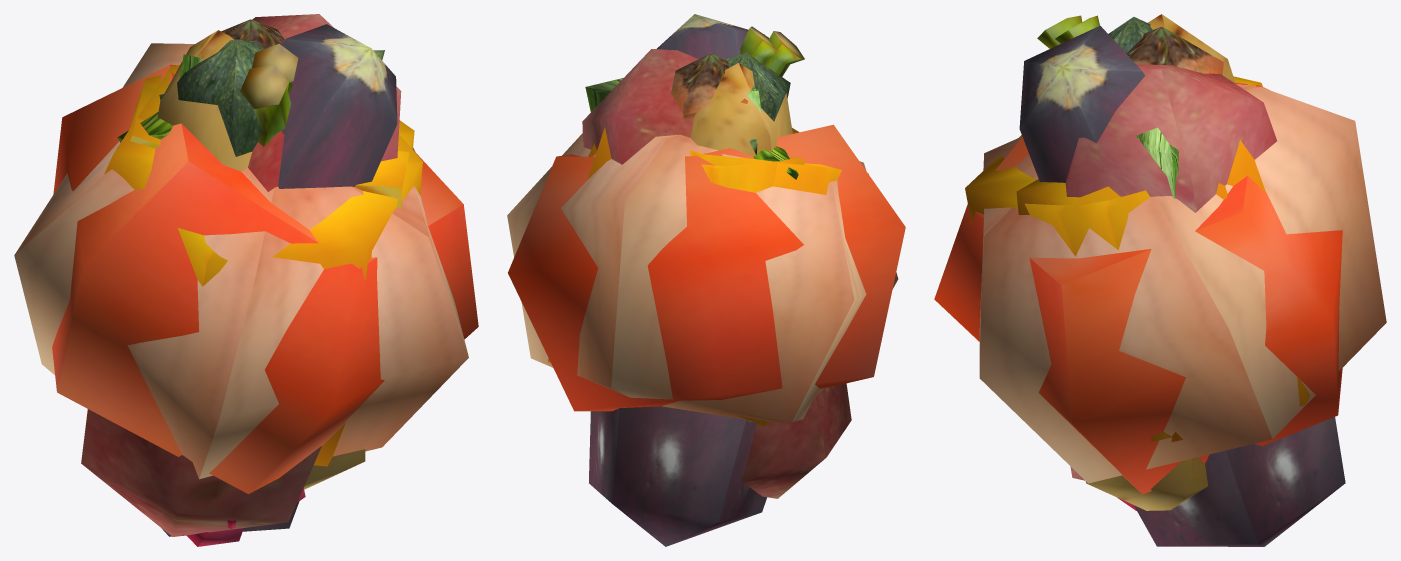
The model's file is Veggies_glb.glb.
3 renders of one model, left to right at view 1: azimuth 30°, elevation 25°; view 2: azimuth 150°, elevation 25°; view 3: azimuth 270°, elevation 25°, orthographic. The views are drawn at different scales.
Parts seen in each view (by area): view 1: Tomato, Onion_Yellow, Potato_Red, Eggplant, Bell_Pepper, Cucumber, Potato_Red.001, Bell_Pepper_Half, Carrot, Beets, Celery; view 2: Tomato, Onion_Yellow, Eggplant, Potato_Red, Potato_Red.001, Bell_Pepper, Bell_Pepper_Half, Carrot, Cucumber, Lettuce; view 3: Onion_Yellow, Tomato, Eggplant, Potato_Red, Bell_Pepper, Bell_Pepper_Half, Potato_Red.001, Carrot, Lettuce, Cucumber.
Part boxes in pixels (x1,y1,x2,y2): Tomato: (52, 64, 478, 493); Onion_Yellow: (14, 43, 468, 479); Potato_Red: (81, 14, 401, 536); Eggplant: (161, 24, 397, 536); Bell_Pepper: (104, 64, 422, 466); Cucumber: (177, 39, 264, 156); Potato_Red.001: (157, 30, 365, 489); Bell_Pepper_Half: (129, 44, 414, 209); Carrot: (221, 19, 284, 48); Beets: (159, 94, 305, 546); Celery: (117, 112, 172, 142); Tomato: (508, 124, 905, 411); Onion_Yellow: (507, 133, 898, 421); Eggplant: (589, 14, 766, 546); Potato_Red: (582, 49, 851, 498); Potato_Red.001: (690, 63, 792, 156); Bell_Pepper: (548, 31, 868, 426); Bell_Pepper_Half: (588, 26, 804, 192); Carrot: (671, 53, 747, 119); Cucumber: (725, 53, 790, 121); Lettuce: (585, 78, 761, 112); Onion_Yellow: (979, 84, 1386, 483); Tomato: (934, 82, 1342, 494); Eggplant: (1019, 25, 1345, 546); Potato_Red: (1065, 64, 1276, 480); Bell_Pepper: (965, 15, 1310, 441); Bell_Pepper_Half: (1016, 15, 1266, 441); Potato_Red.001: (1085, 14, 1235, 510); Carrot: (1127, 26, 1223, 74); Lettuce: (1136, 127, 1178, 198); Cucumber: (1108, 17, 1152, 53).
Bounding box in the file's own units: 0.744 × 0.9503 × 0.7419.
5 materials, 5 textured.
